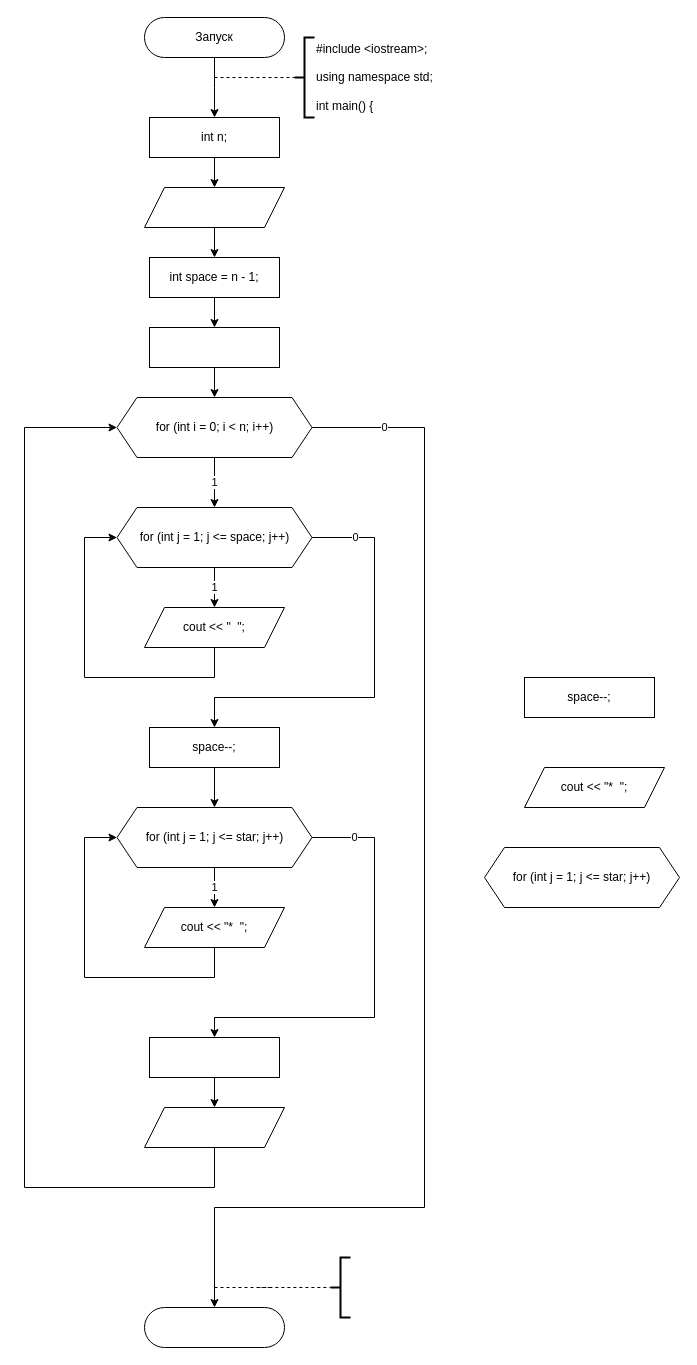
Some shapes in this 697 by 1365 pixel diagram are drawn without their labels. Each missing label, with the box of its shape:
cin >> n;: (144, 186, 284, 228)
cout << endl;: (144, 1106, 284, 1148)
int star = 1;: (148, 326, 280, 368)
return 0; }: (329, 1256, 351, 1318)
star += 2;: (148, 1036, 280, 1078)
Конец: (144, 1306, 284, 1348)
